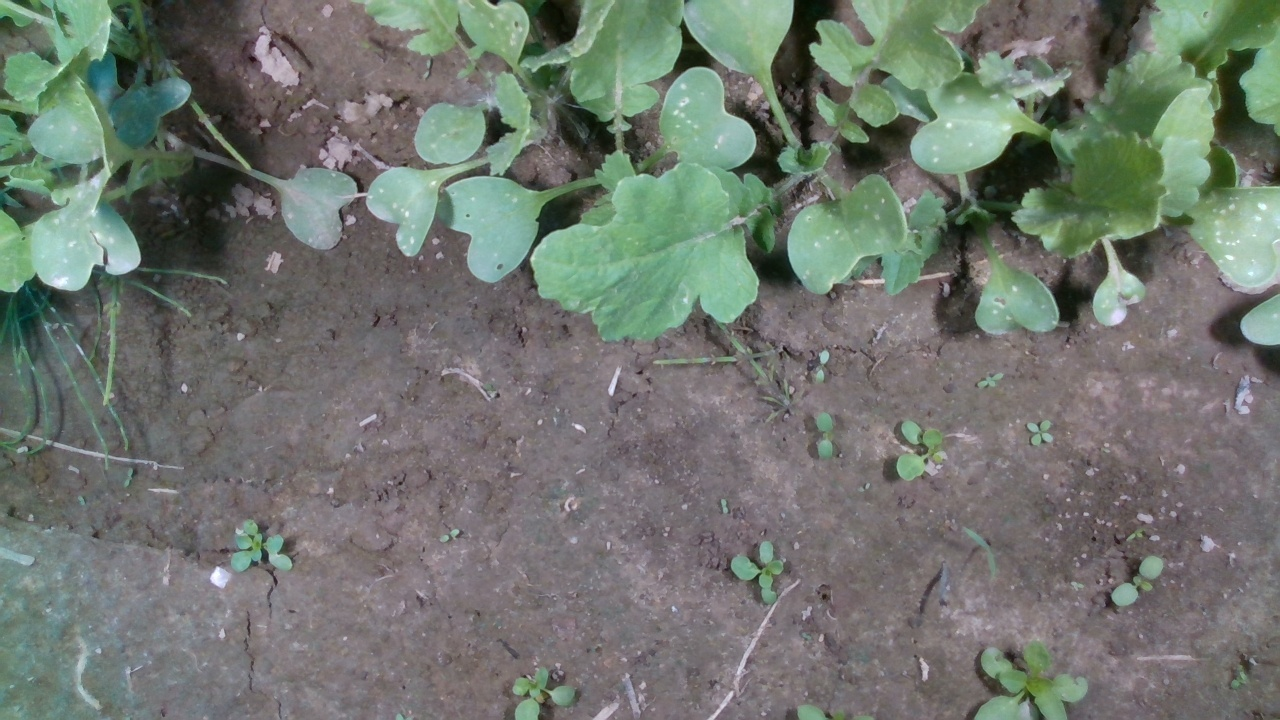weed: (1112, 554, 1166, 608), (815, 410, 833, 459), (1024, 418, 1055, 446), (814, 347, 830, 385), (975, 371, 1005, 389), (438, 526, 460, 543), (720, 496, 729, 516)
